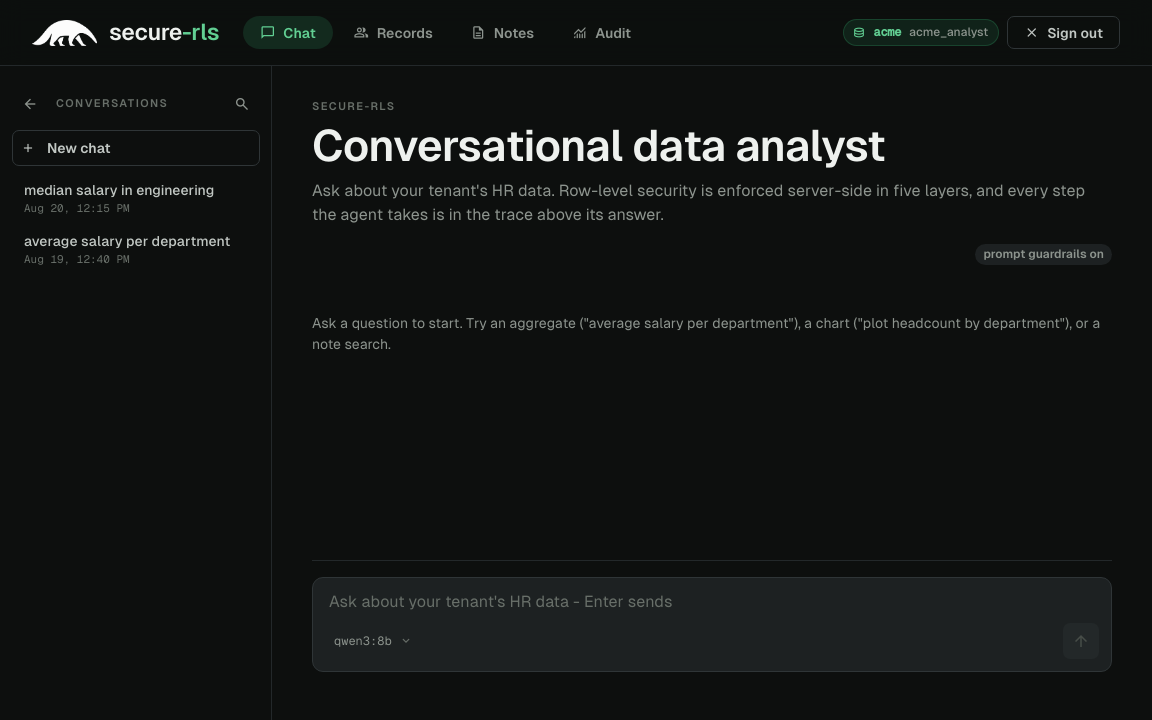
Test case: the conversation rail › keeps the first-message title and stays silent when titling fails
The image size is (1152, 720).
Expected: the dropdown shows "qwen3:8b", left=325, top=628, right=421, bottom=654
Expected: the text "average salary per department" is shown, left=24, top=233, right=230, bottom=250
In the text box named "Question": (712, 602) left=325, top=590, right=1099, bottom=615, type "how many people are there?"
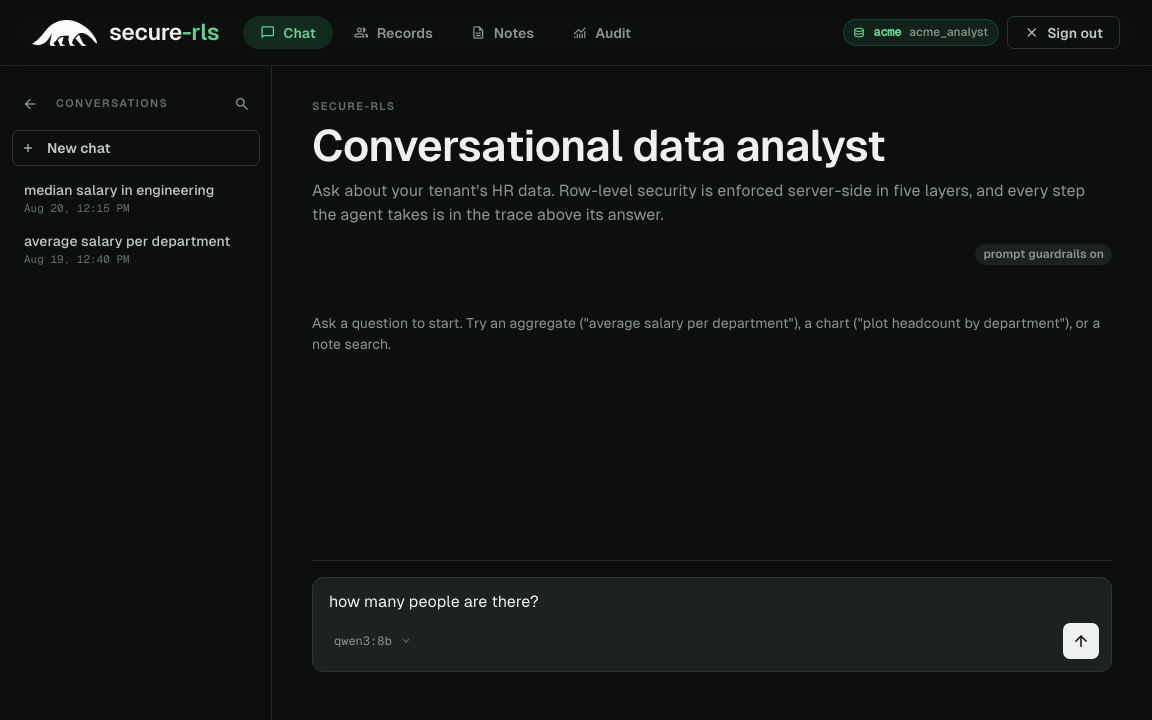
Press Enter in the text box named "Question", box left=325, top=590, right=1099, bottom=615
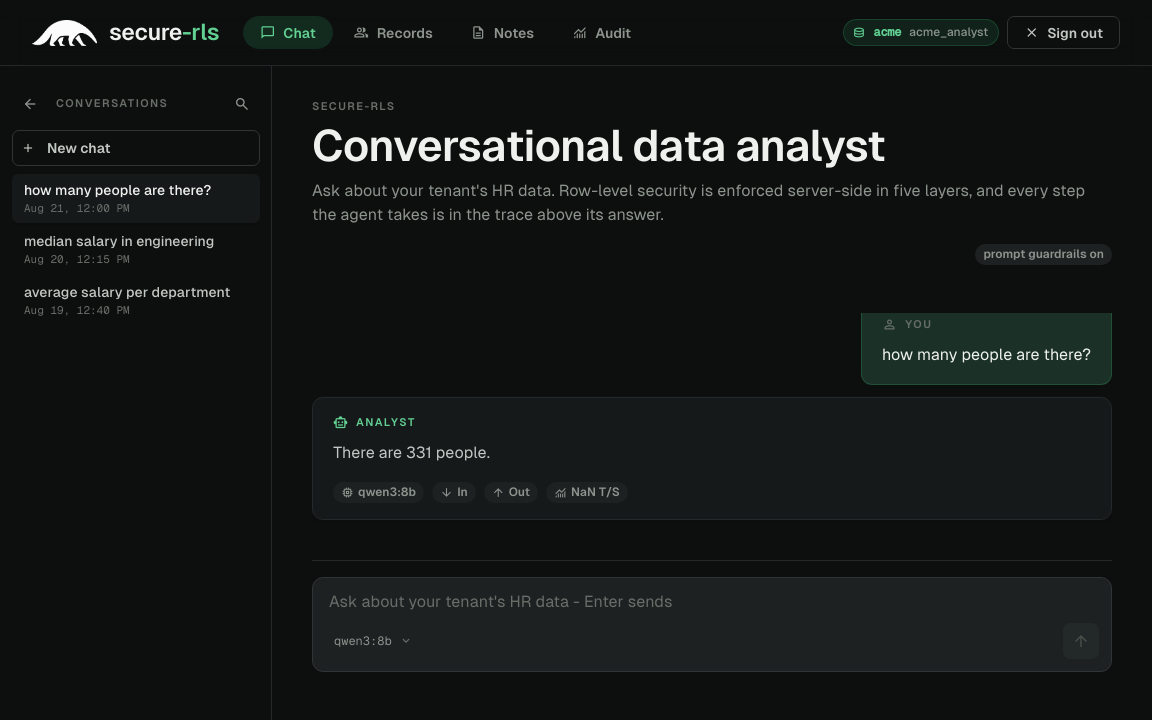
Expected: the text "There are 331 people." is shown, left=333, top=443, right=490, bottom=462
Expected: the text with class "rail-item-title" below "Conversations" reads "how many people are there?", left=24, top=182, right=211, bottom=198
